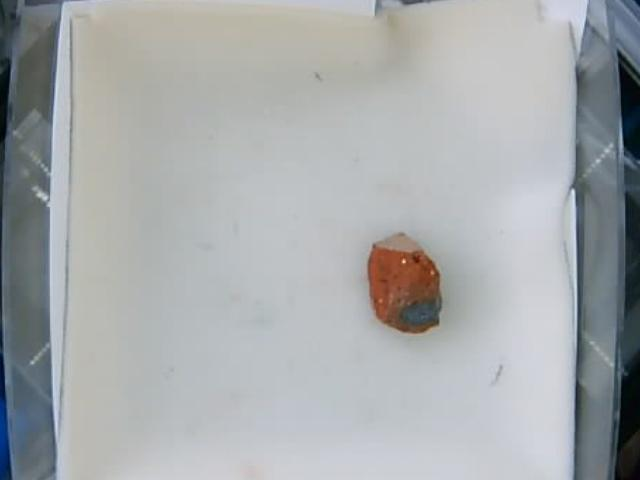Brisk: (369, 231, 443, 333)
